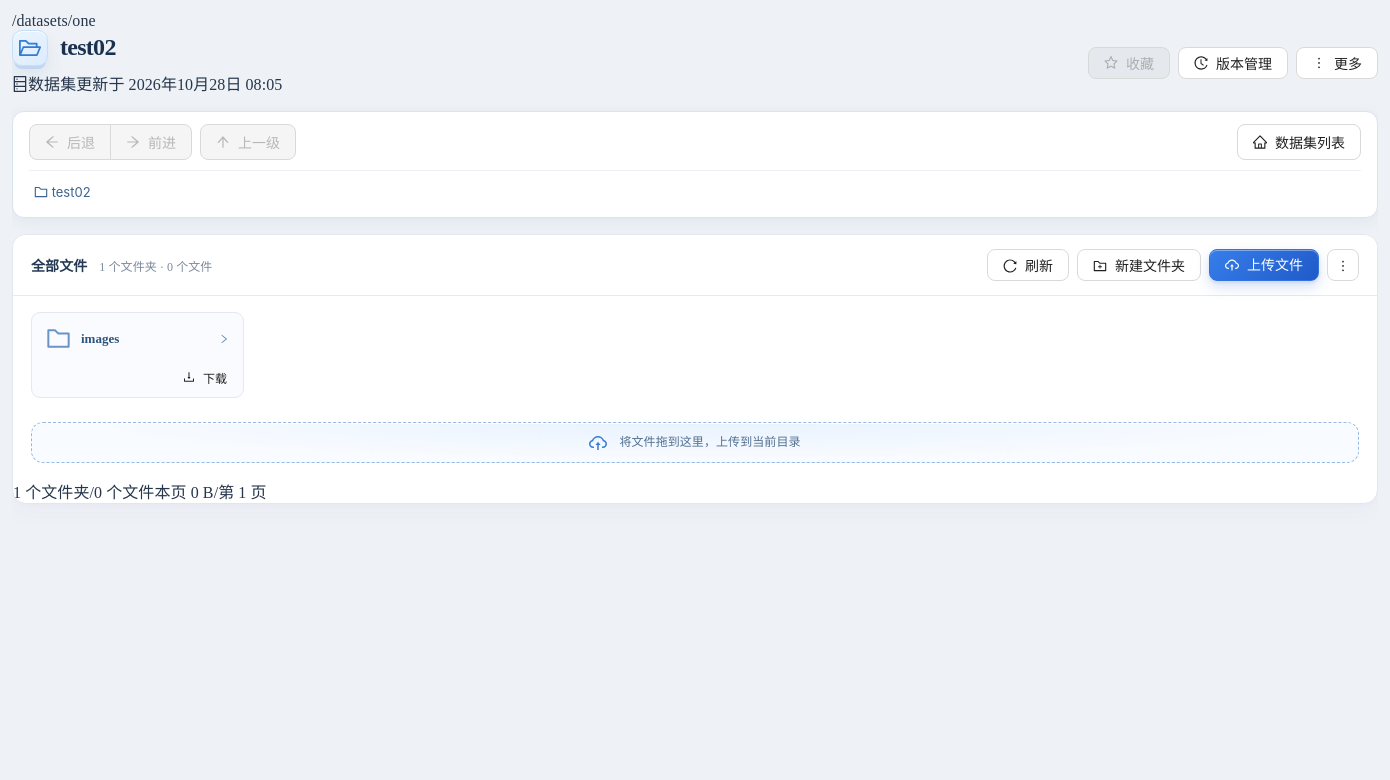
Test: Dataset file explorer › cancels its wait on folder navigation and never downloads a late package response
Click the button with aria-label "下载压缩包 images" at coordinates (205, 377), box x1=175 y1=365 x2=235 y2=389
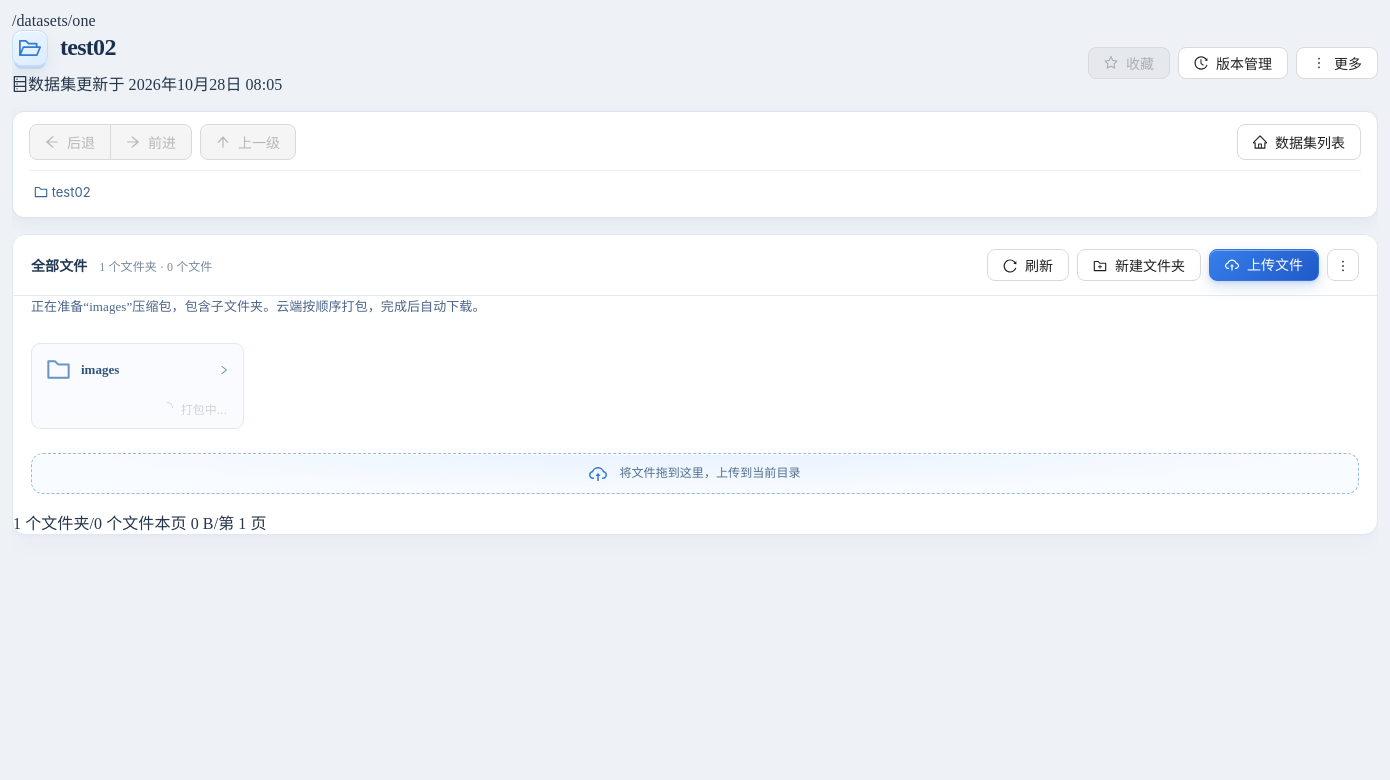
Click the button with aria-label "打开文件夹 images" at coordinates (138, 370), box x1=32 y1=344 x2=243 y2=396
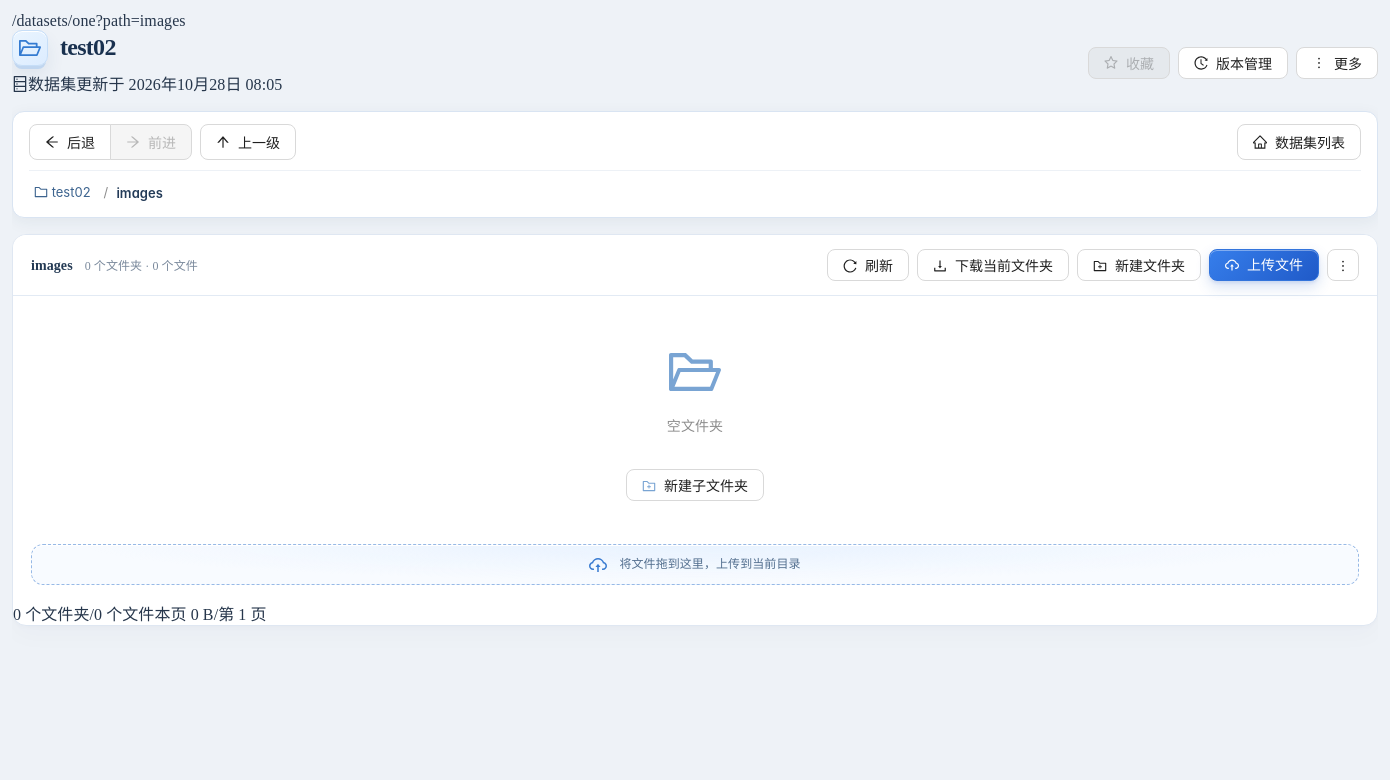
Expected: the text with test id "route-location" reads "/datasets/one?path=images", x1=12 y1=12 x2=186 y2=29
Expected: the message "文件夹压缩包准备状态" is gone
Expected: the button with aria-label "下载当前文件夹压缩包" is enabled, x1=917 y1=249 x2=1069 y2=281
